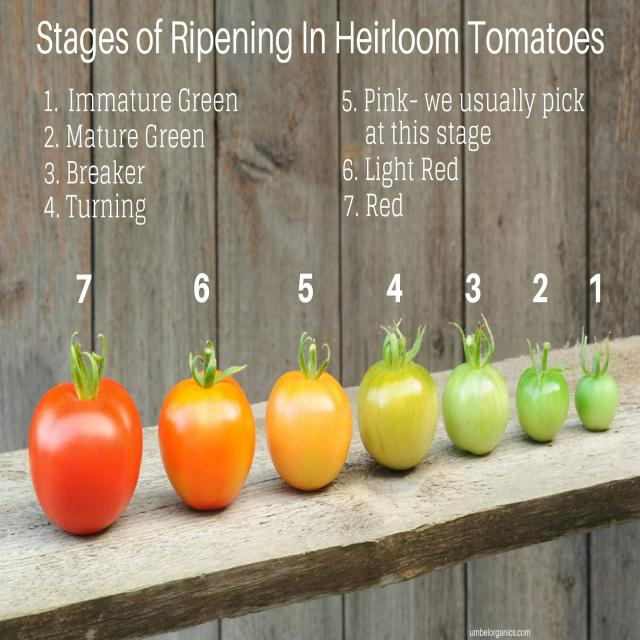level 1: (515, 336, 573, 454), (573, 331, 624, 444)
level 2: (444, 313, 514, 465)
level 3: (358, 317, 442, 482)
level 4: (264, 330, 356, 506)
level 5: (155, 336, 260, 523)
level 6: (21, 328, 148, 549)
